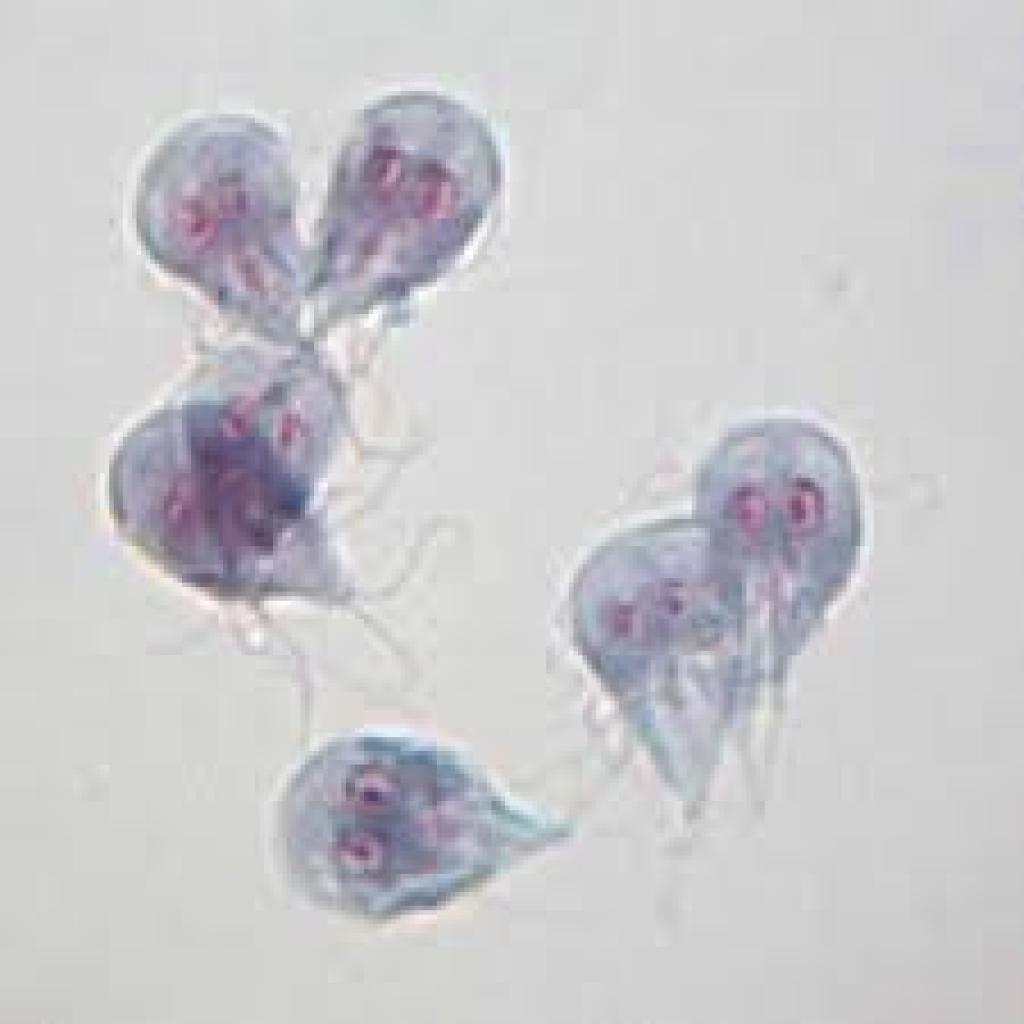Giardia: (105, 396, 437, 651), (683, 410, 869, 769), (259, 724, 578, 924), (550, 505, 724, 824), (310, 96, 505, 350), (123, 100, 309, 355)
